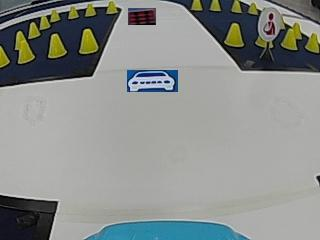cone: (224, 22, 244, 47), (47, 33, 67, 58), (79, 28, 98, 54), (16, 33, 33, 62), (282, 29, 297, 50), (305, 31, 319, 52), (0, 44, 10, 66), (28, 21, 40, 38), (84, 3, 96, 17), (67, 5, 79, 19), (105, 1, 117, 14), (40, 15, 50, 29), (209, 0, 221, 11), (231, 1, 242, 13), (247, 2, 258, 14), (190, 0, 202, 11), (50, 8, 60, 21)
patient: (260, 7, 281, 37)
